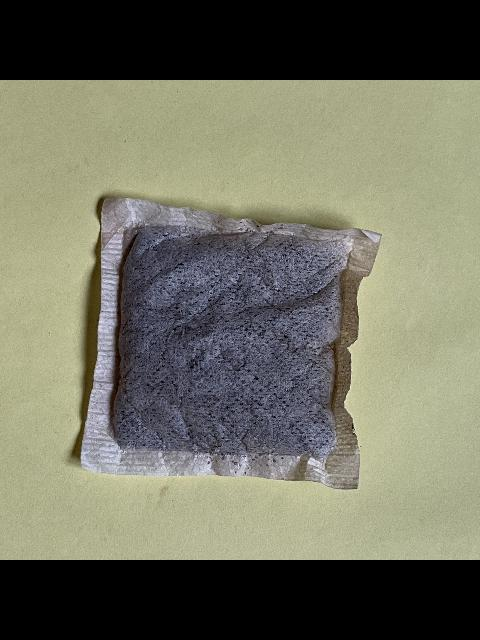teabag: (74, 193, 384, 491)
